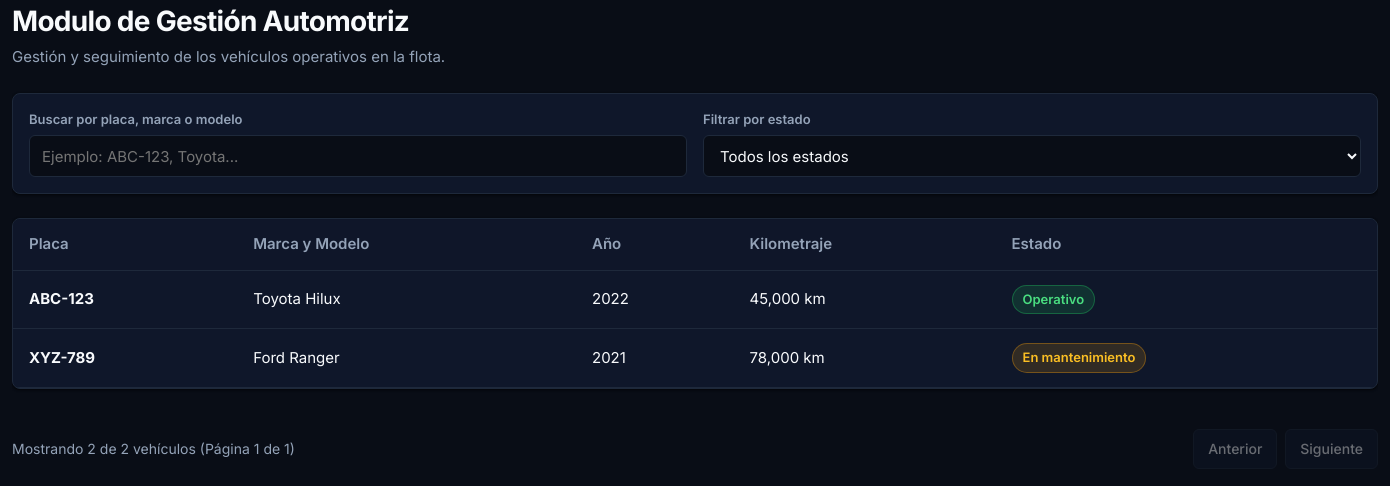
Test: Flujo CRUD de Vehículos (VehiculosListPage) › filtra los registros en tiempo real al escribir en la barra de búsqueda
expect the text "ABC-123" is shown: met, box [29, 289, 94, 308]
expect the text "XYZ-789" is shown: met, box [29, 348, 95, 366]
Type "Toyota" into the search field labelled "Buscar por placa, marca o modelo" at (358, 156), box [29, 135, 687, 177]
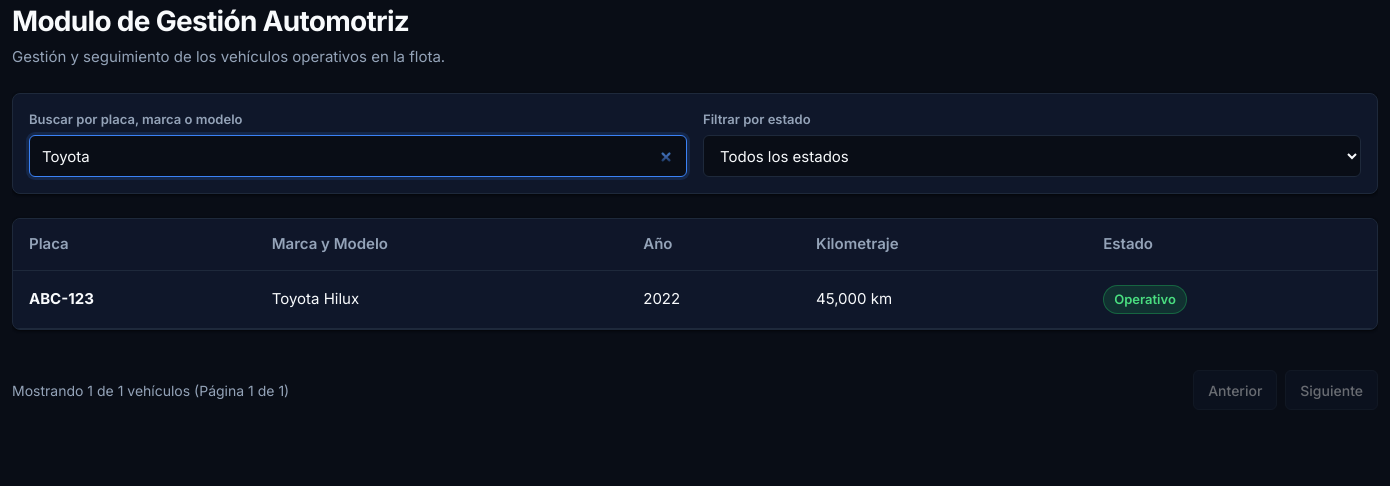
expect the text "ABC-123" is shown: met, box [29, 289, 94, 308]
expect the text "XYZ-789" is gone: met
